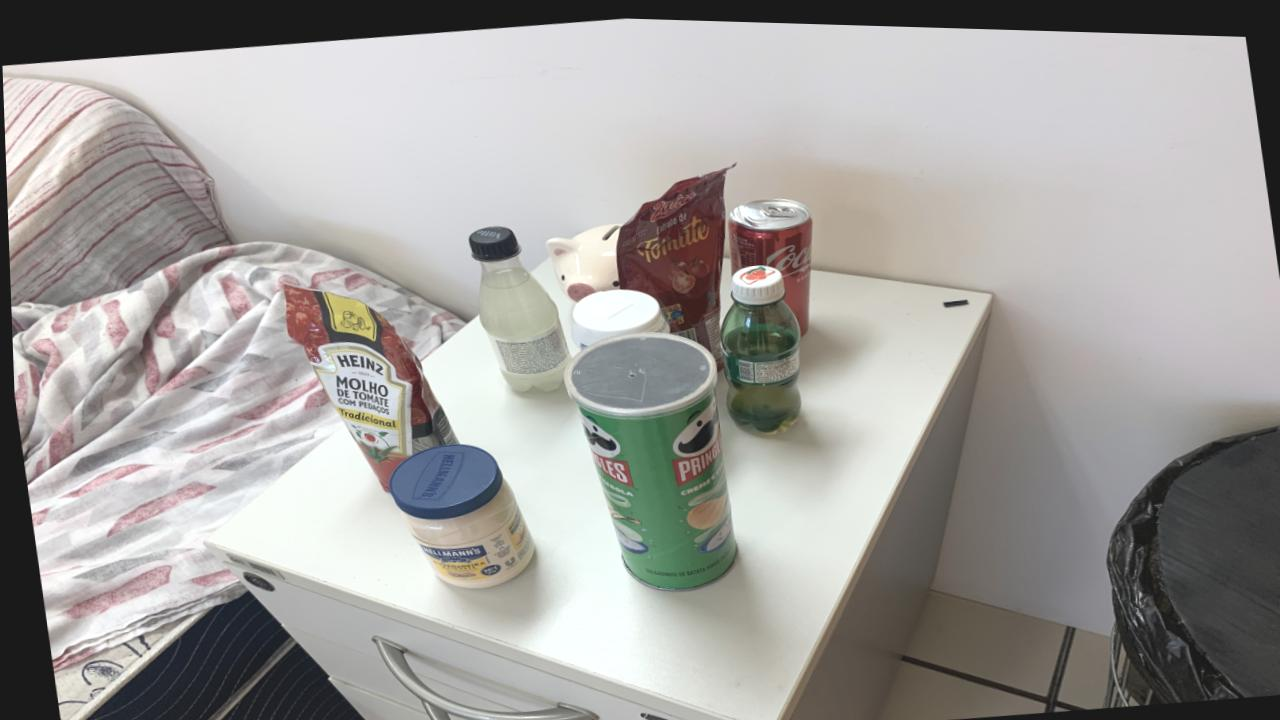Cleaner-Cleanup_Items: (569, 285, 667, 345)
Coke-Drinks: (726, 193, 811, 329)
Guarana-Drinks: (717, 260, 799, 428)
Mayonnaise-Pantry_Items: (384, 438, 531, 585)
Pig_Safe-Miscellaneous: (545, 220, 620, 298)
Pringles-Snacks: (560, 328, 734, 586)
Soda-Drinks: (466, 223, 568, 388)
Tomato_Sauce-Pantry_Items: (281, 282, 454, 488), (614, 163, 728, 353)
